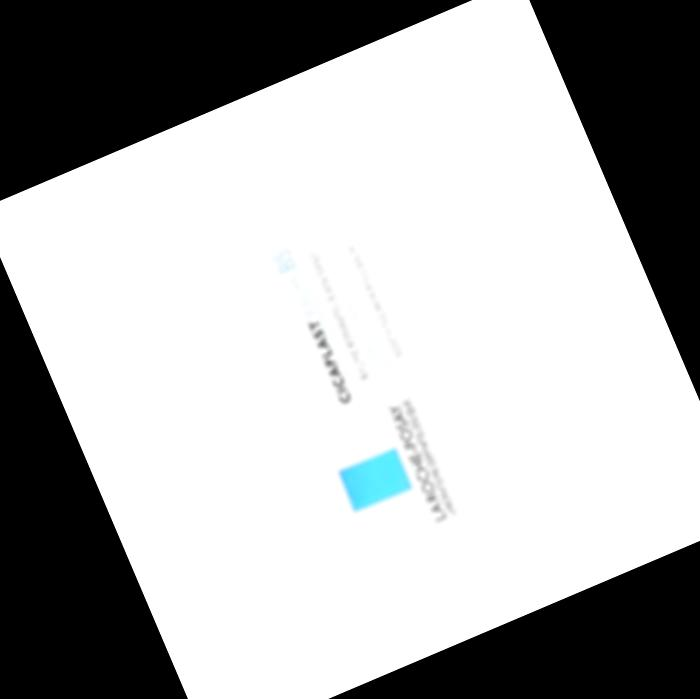cosmetic: (161, 90, 553, 629)
